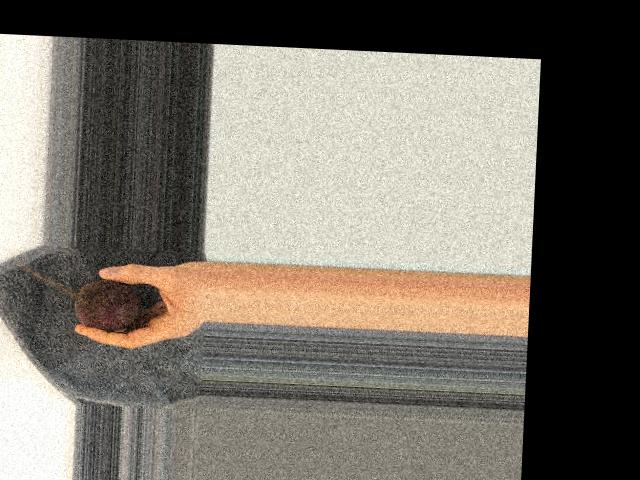beet: (74, 277, 141, 332)
